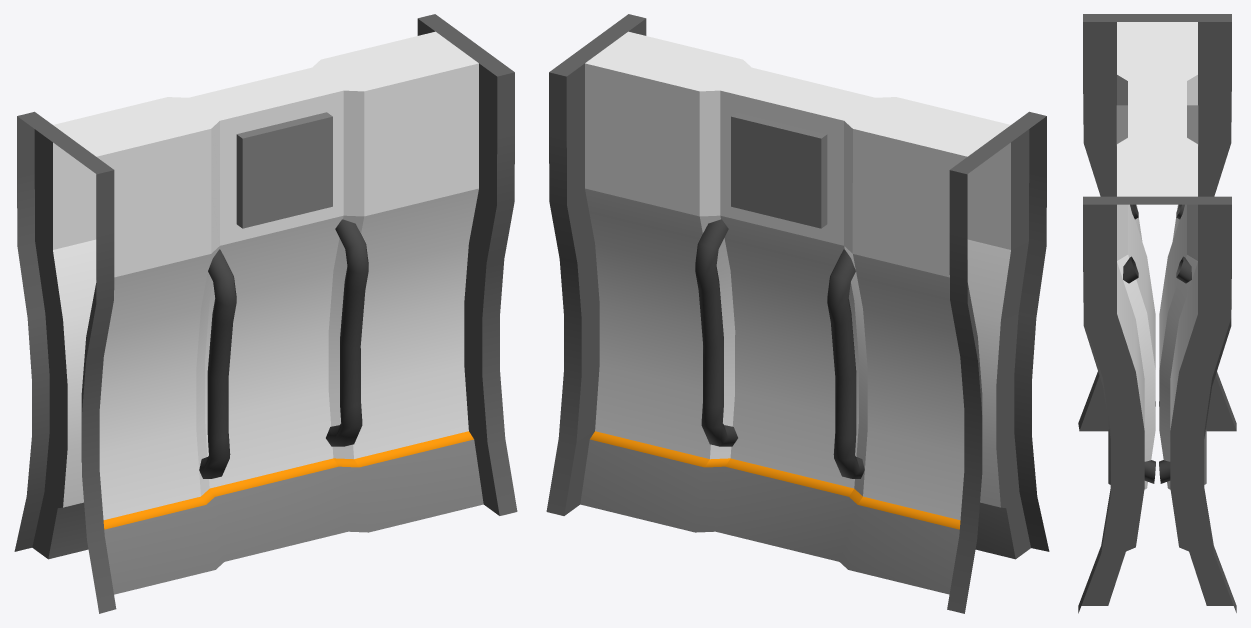
File: SM_ExteriorWall_05_Elevator.fbx
3 renders of one model, left to right at view 1: azimuth 30°, elevation 25°; view 2: azimuth 150°, elevation 25°; view 3: azimuth 270°, elevation 25°, orthographic. The views are drawn at different scales.
Visible parts, largest first — view 1: SM_ExteriorWall_05_Elevator; view 2: SM_ExteriorWall_05_Elevator; view 3: SM_ExteriorWall_05_Elevator.
Part boxes in pixels (box(x1,y1,x2,y2)): SM_ExteriorWall_05_Elevator: box(14, 14, 517, 613); SM_ExteriorWall_05_Elevator: box(546, 14, 1049, 613); SM_ExteriorWall_05_Elevator: box(1078, 14, 1236, 613).
Size of the model in its own units: 200 by 200 by 70.18.
Materials: 1 (1 with a texture image).
